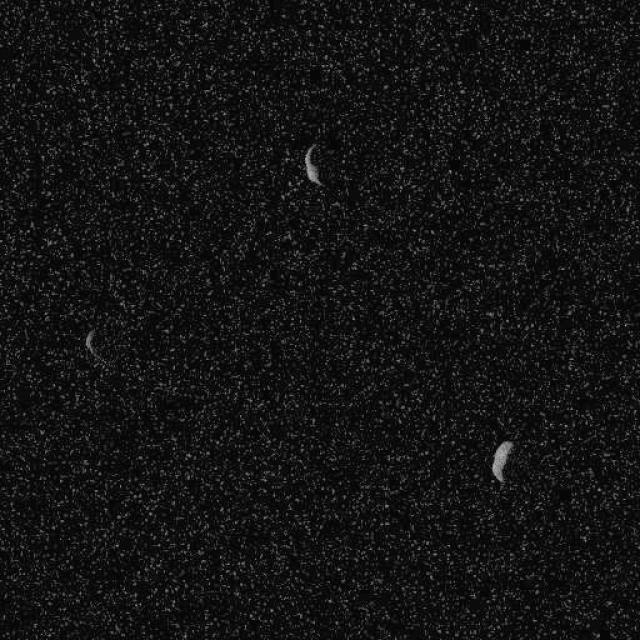D2: (490, 438, 514, 484), (302, 142, 324, 186), (82, 328, 99, 362)
